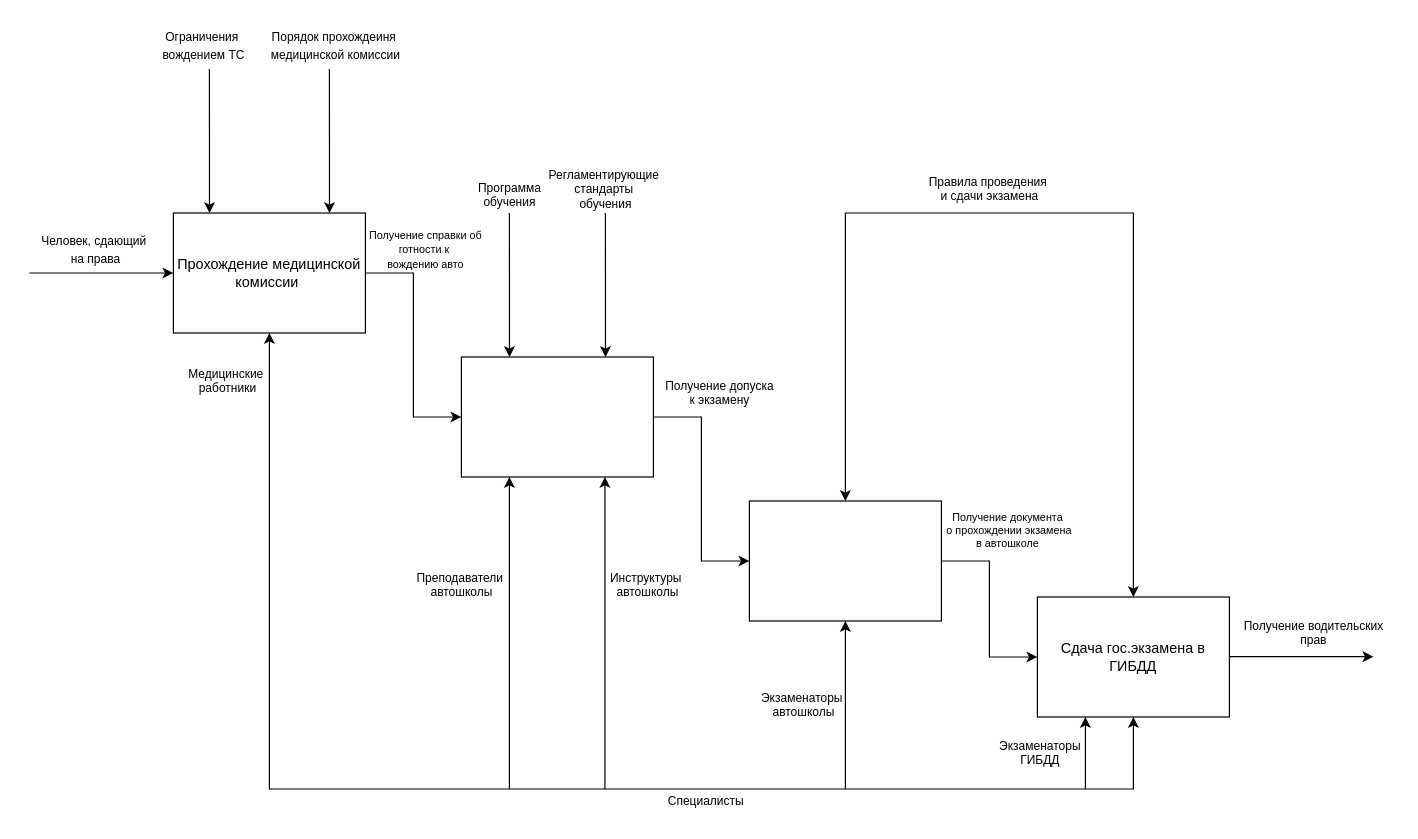
Some shapes in this 1418 by 839 pixel diagram are drawn without their labels. The centre of each missing label's shape, as x and y in pixels:
"Обучение в автошколе" goes at pixel 556 416.
"Сдача экзаменов в автошколе" goes at pixel 844 560.
